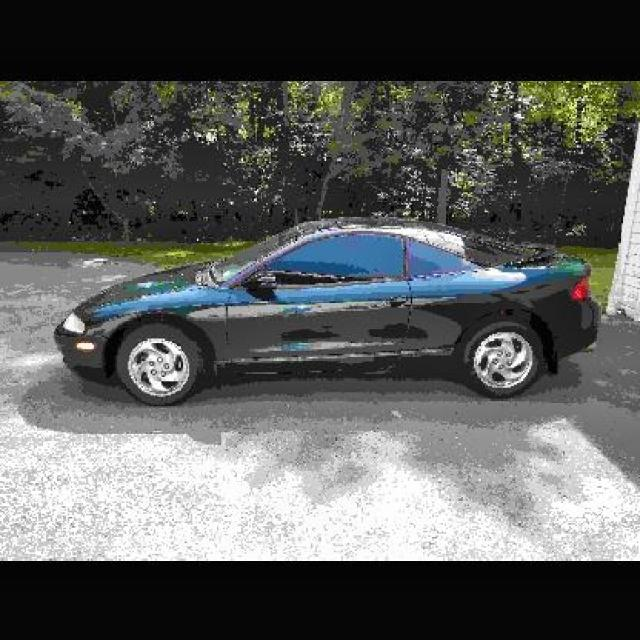black: (46, 232, 640, 366)
